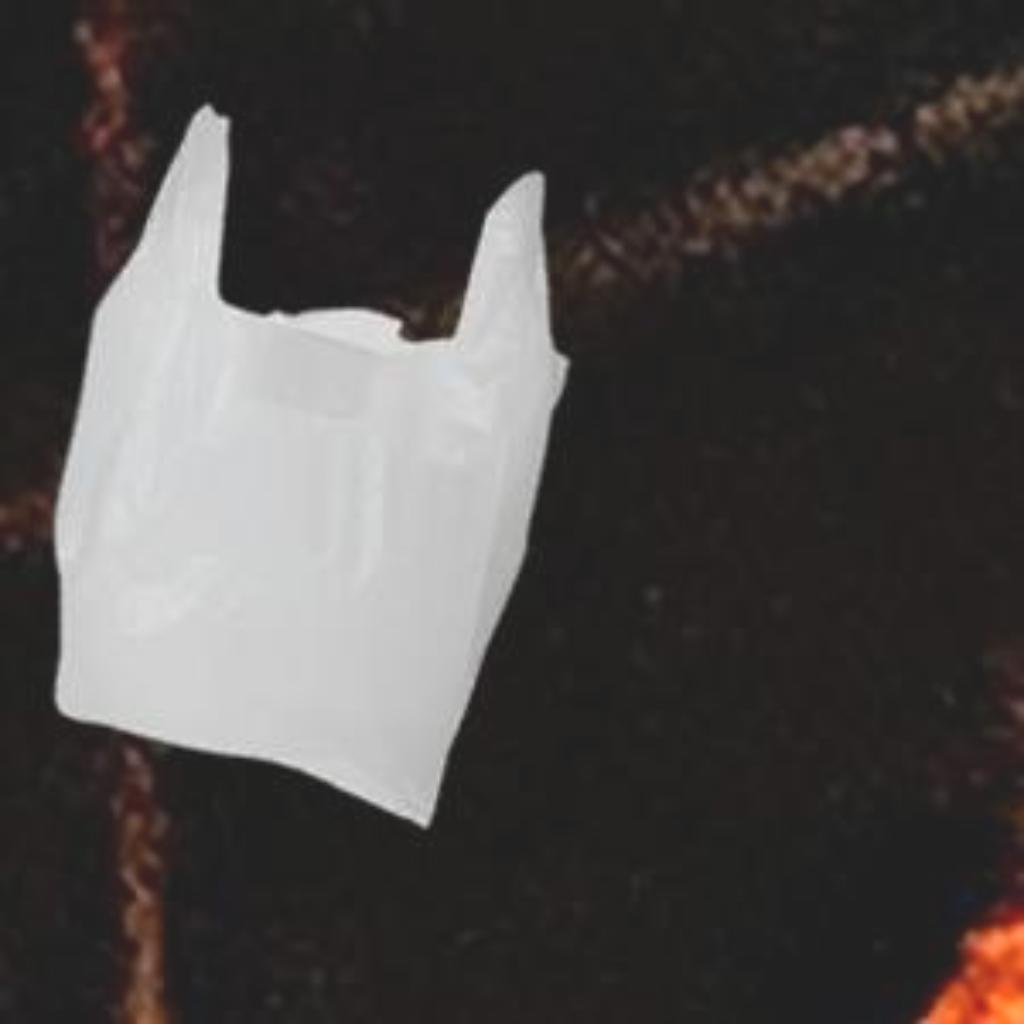garbage: (49, 58, 592, 836)
